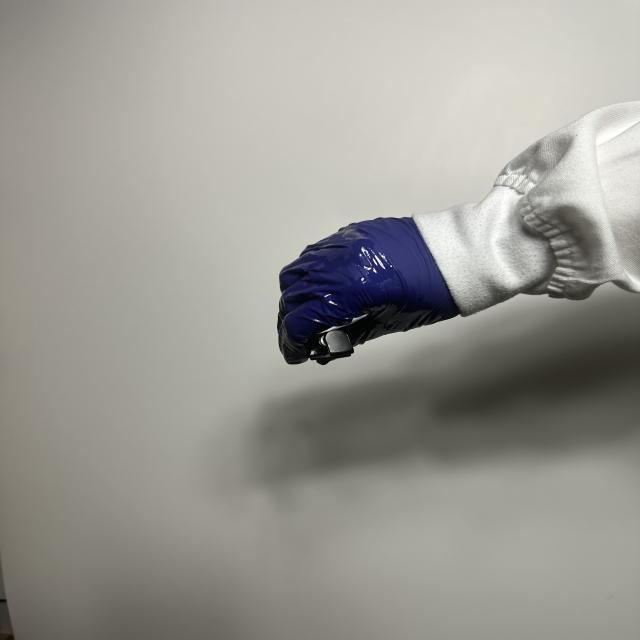gloves_contaminated: (278, 218, 460, 364)
